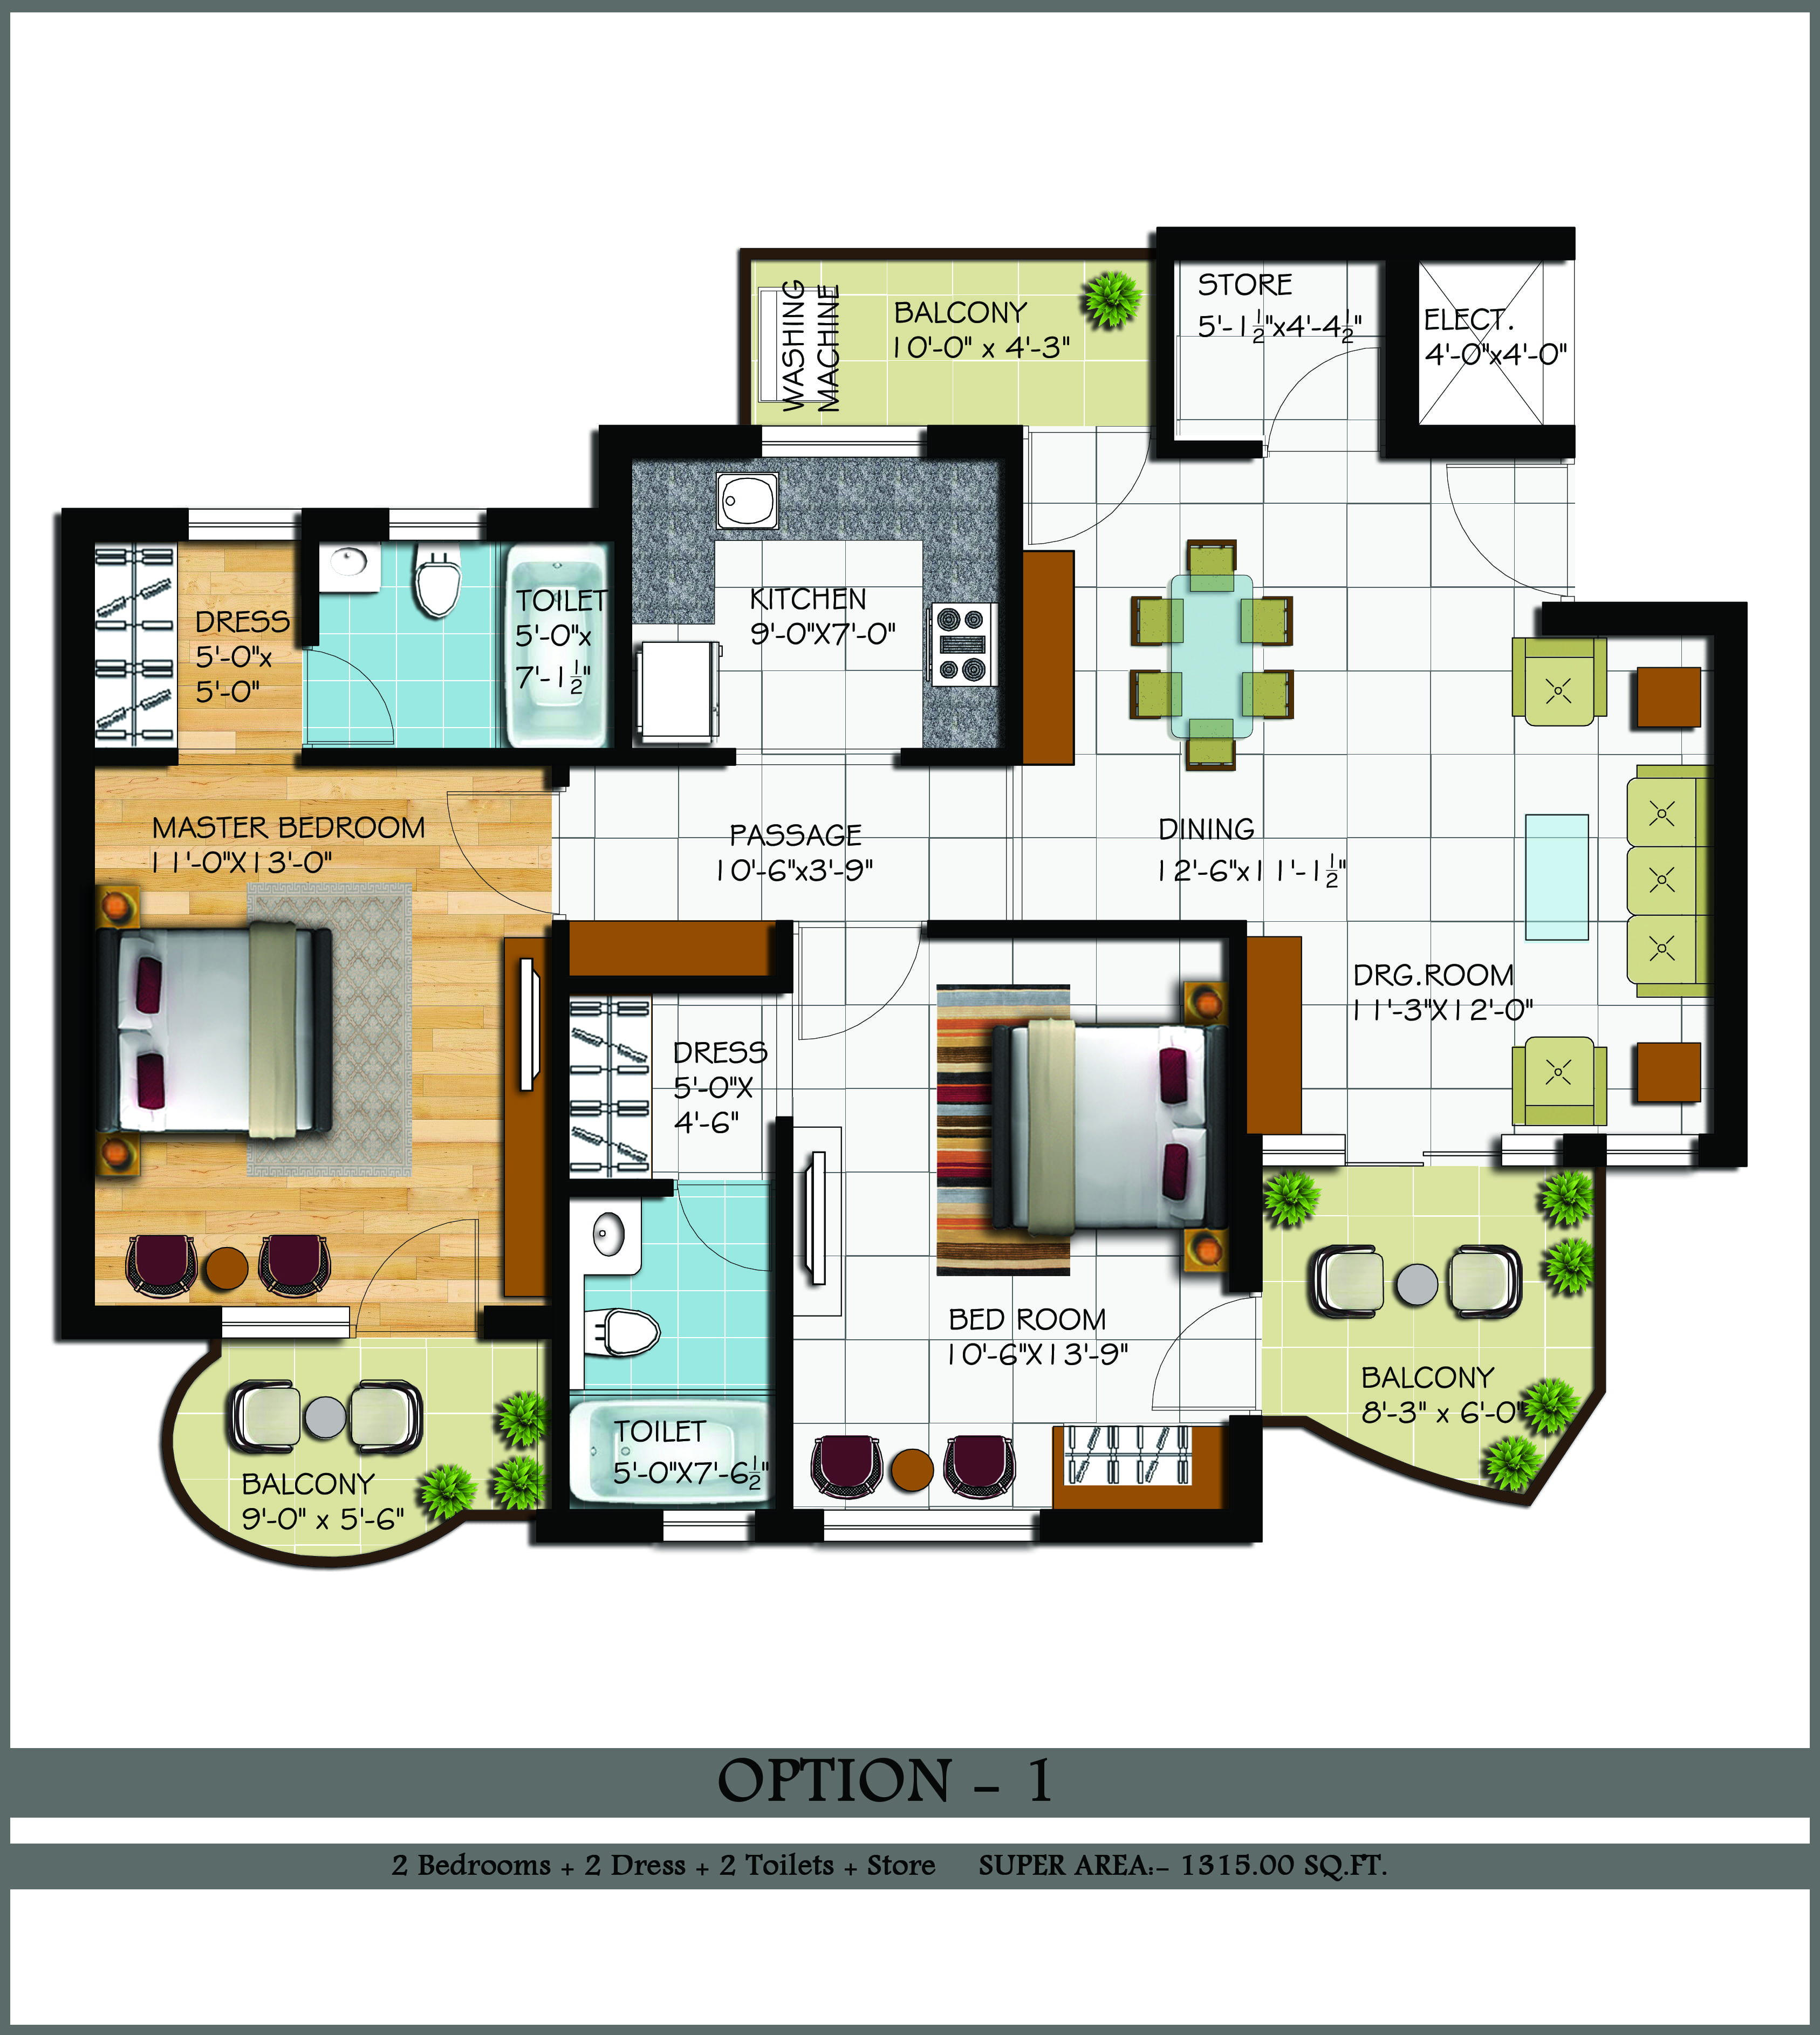window: (822, 1508, 1049, 1543), (759, 423, 931, 458), (218, 1303, 351, 1341), (186, 504, 306, 544), (386, 506, 490, 541), (1604, 1133, 1702, 1169), (661, 1508, 761, 1543)
